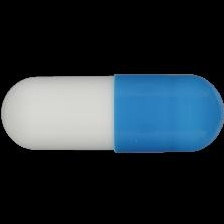55154-7750: (0, 0, 224, 224)
